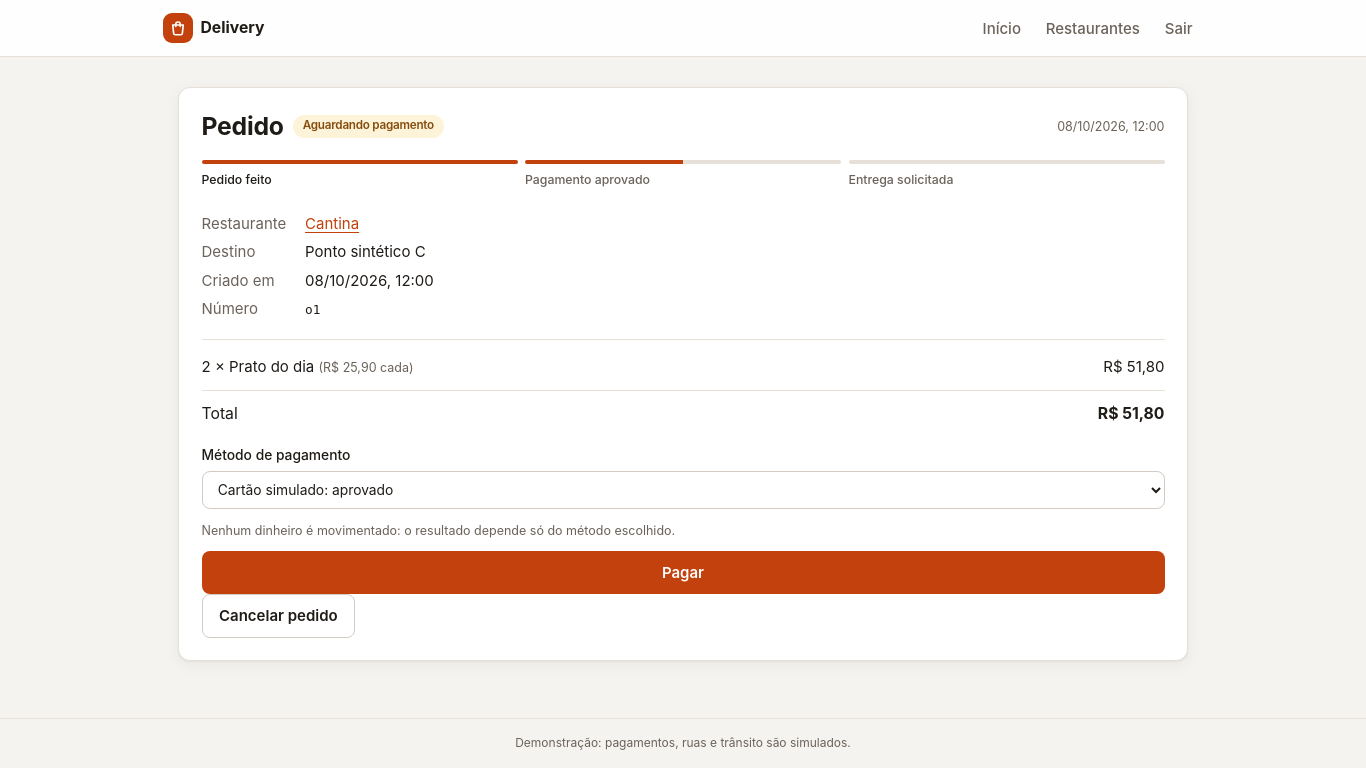
Scenario: order payment › confirms the order when the simulated payment is approved
This screenshot has width=1366, height=768.
Expected: the heading "Pedido Aguardando pagamento" is shown, [202,111,444,142]
Click the button "Pagar" at (683, 573), box [202,551,1164,594]
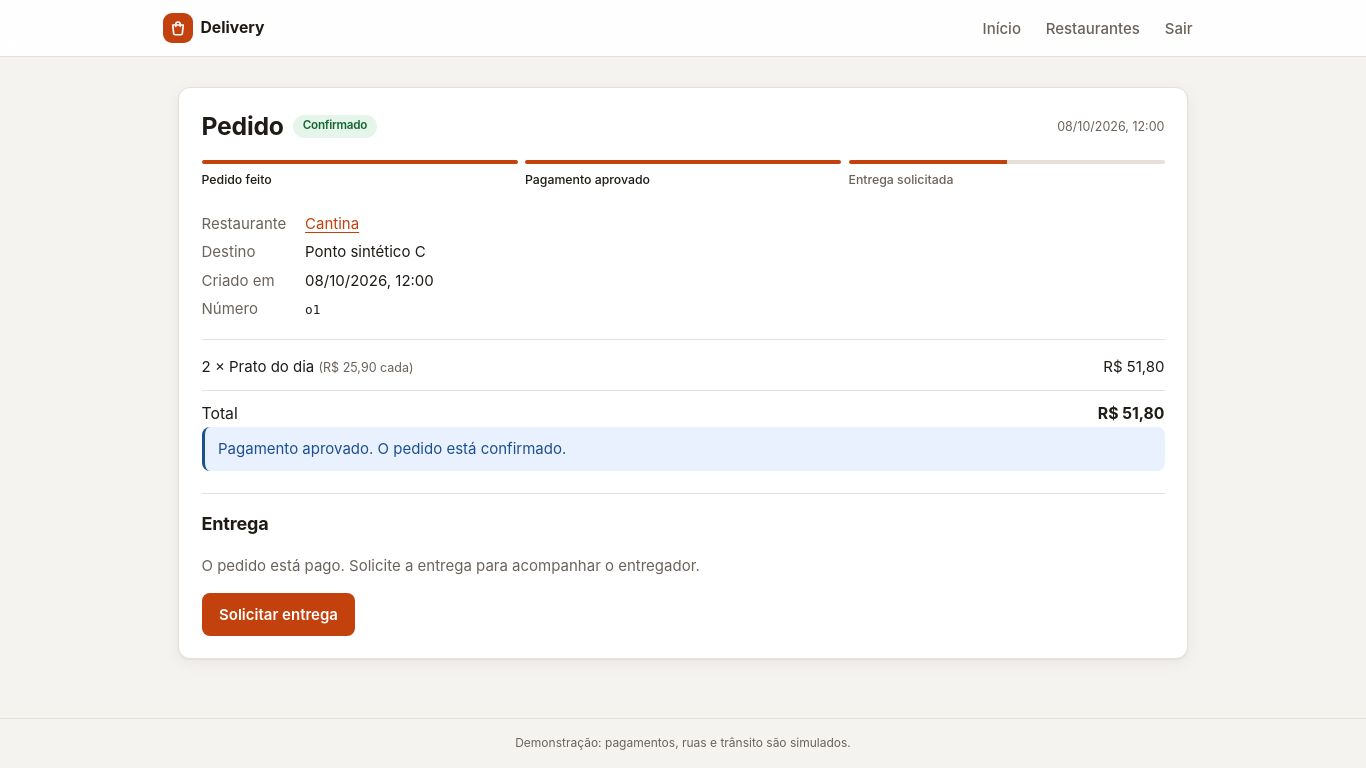
Result: the text "Confirmado" is shown at [293,115,377,138]
Result: the message shows "Pagamento aprovado" at [218,439,566,458]
Result: the button "Cancelar pedido" is gone
